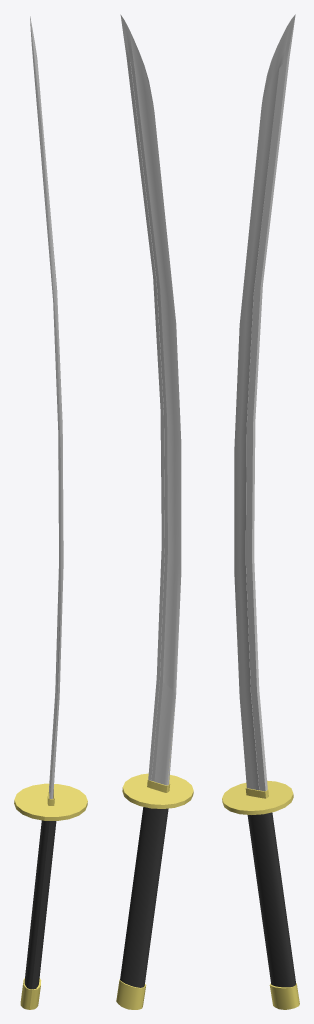
Rendered from Katana.fbx.
3 renders of one model, left to right at view 1: azimuth 90°, elevation 25°; view 2: azimuth 150°, elevation 25°; view 3: azimuth 330°, elevation 25°, orthographic.
Parts seen in each view (by area): view 1: Katana; view 2: Katana; view 3: Katana.
Boxes of the visible parts, box(x1,y1,x2,y2) form: Katana: box(14, 16, 87, 1009); Katana: box(116, 14, 193, 1009); Katana: box(222, 14, 299, 1009).
Bounding box in the file's own units: 21.96 × 346 × 23.45.
